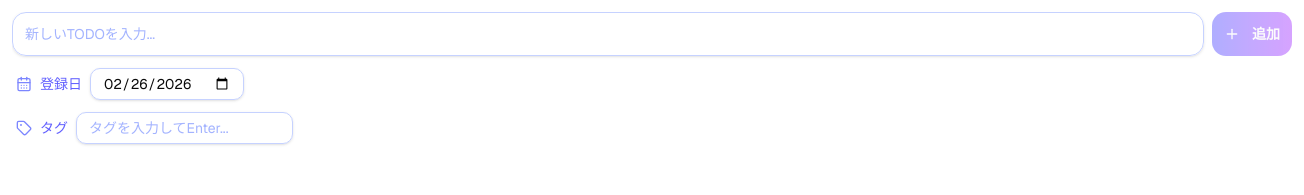
Scenario: TodoInput › タグ入力 › カンマ区切りで複数タグを追加できる
Type "仕事,個人" into the field with placeholder "タグを入力してEnter...".
click(184, 128); type("仕事,個人")  # box [76, 112, 293, 144]
Then press Enter
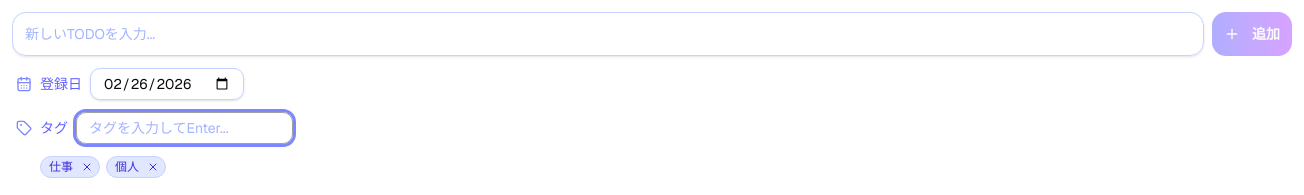
Expected: the text "仕事" is shown, [40, 156, 100, 178]
Expected: the text "個人" is shown, [106, 156, 166, 178]
